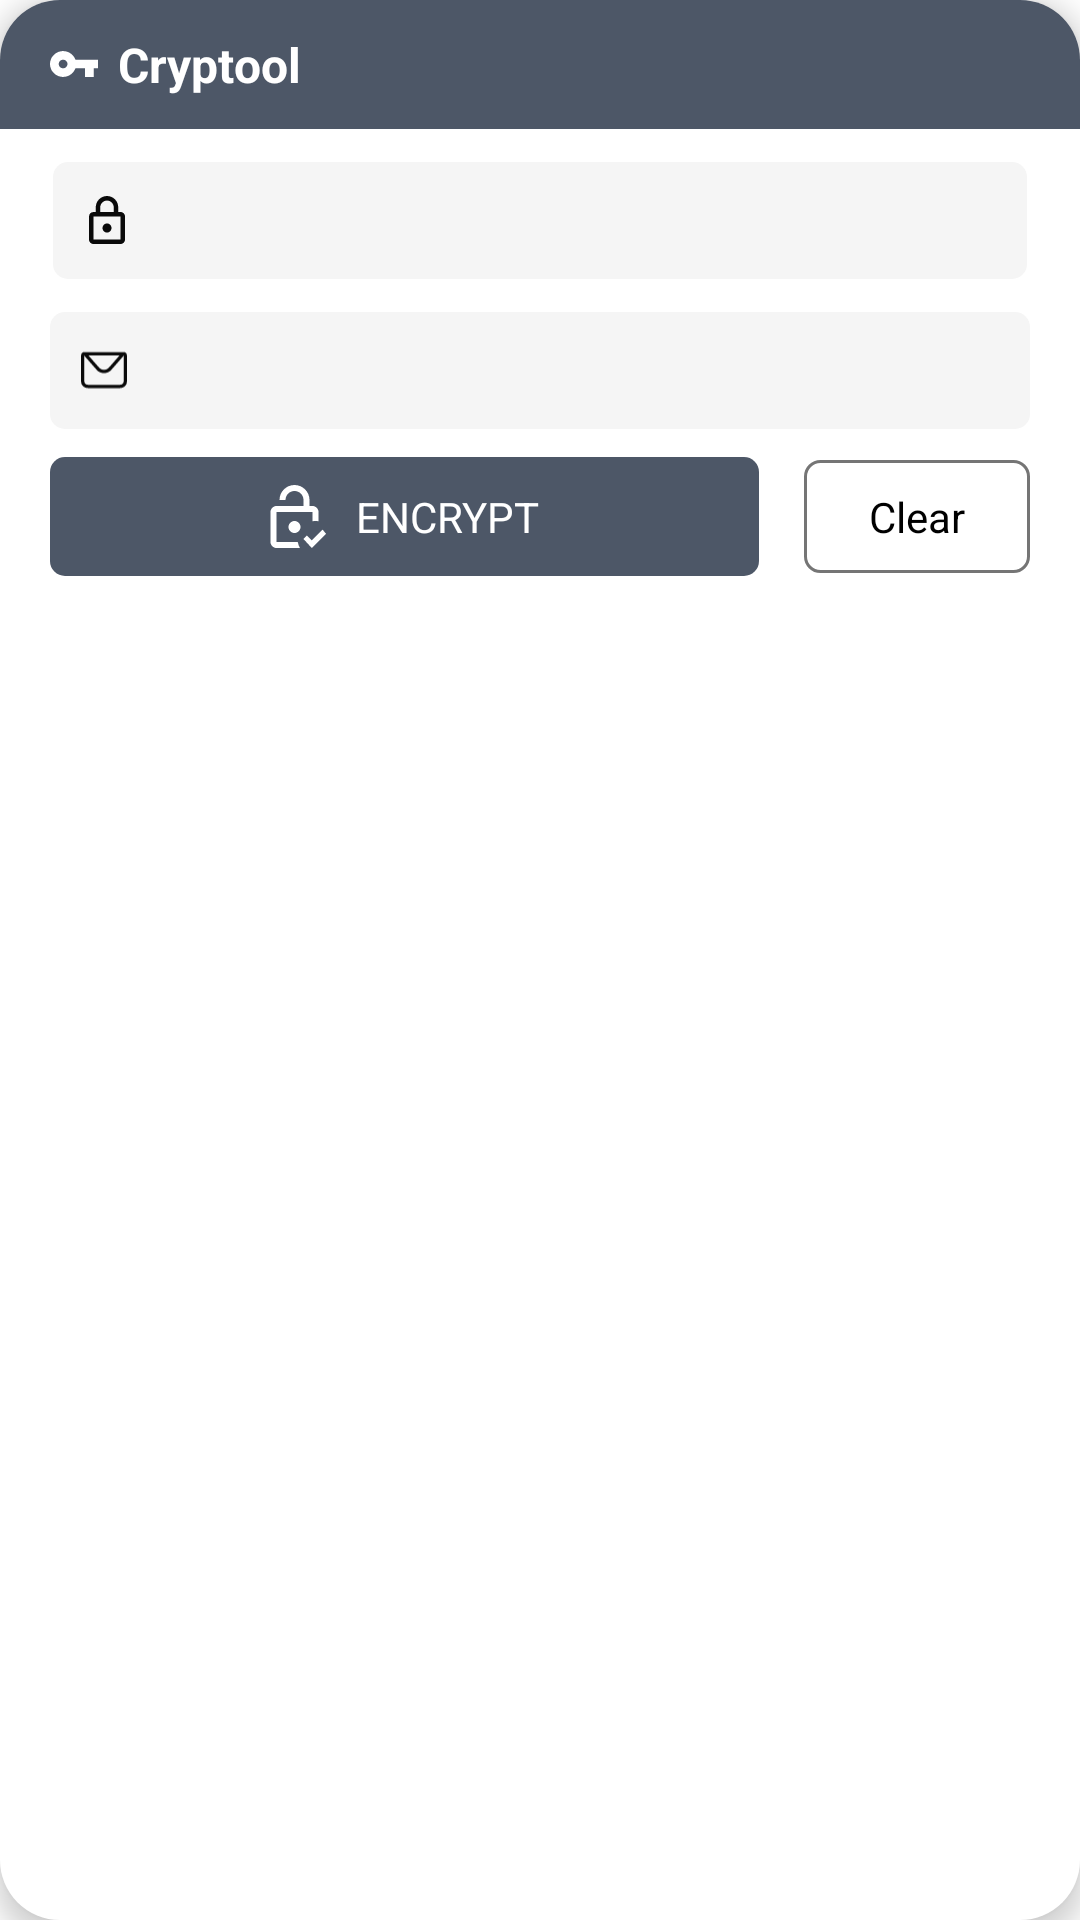

Icon click points for this 1080w x 1920h phone screenshot, format (x=x, y=y):
decrypt: (x=298, y=516)
message: (x=104, y=370)
password text: (x=107, y=220)
